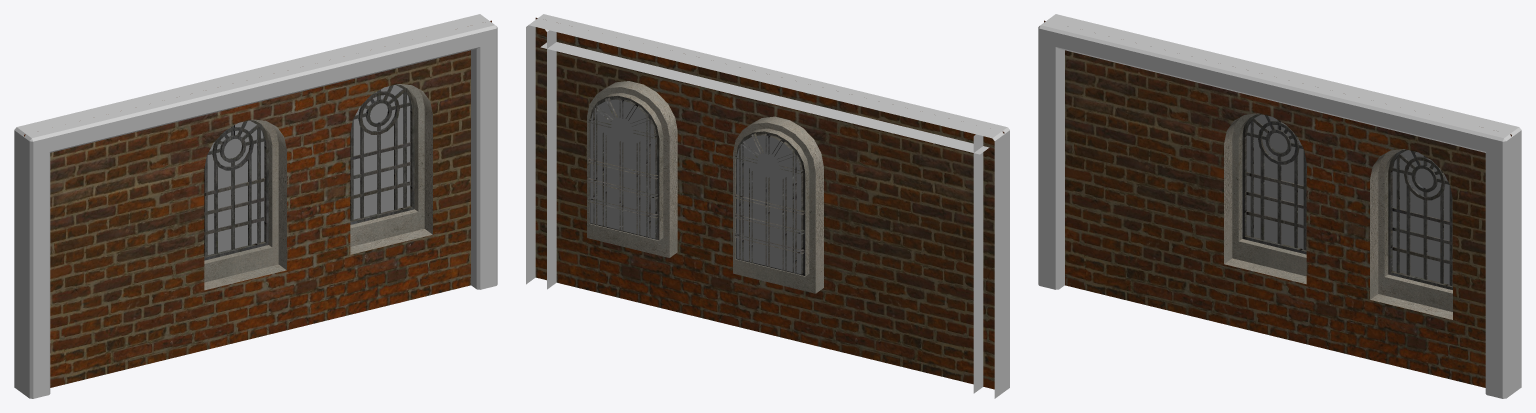
Rendered from Batiment_1_2_fenetres.FBX.
3 renders of one model, left to right at view 1: azimuth 30°, elevation 25°; view 2: azimuth 150°, elevation 25°; view 3: azimuth 330°, elevation 25°, orthographic.
Visible parts, largest first — view 1: Object002; view 2: Object002; view 3: Object002.
Part boxes in pixels (box(x1,y1,x2,y2)): Object002: box(14, 14, 497, 398); Object002: box(526, 14, 1009, 398); Object002: box(1038, 14, 1521, 398).
Size of the model in its own units: 315 by 25.42 by 167.
